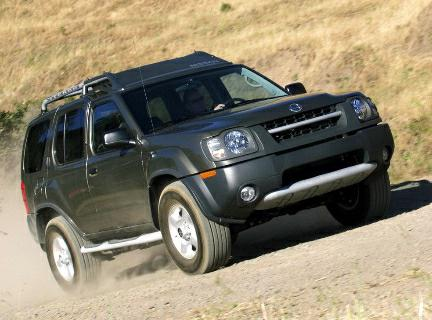日产-Xterra: (17, 45, 399, 295)
